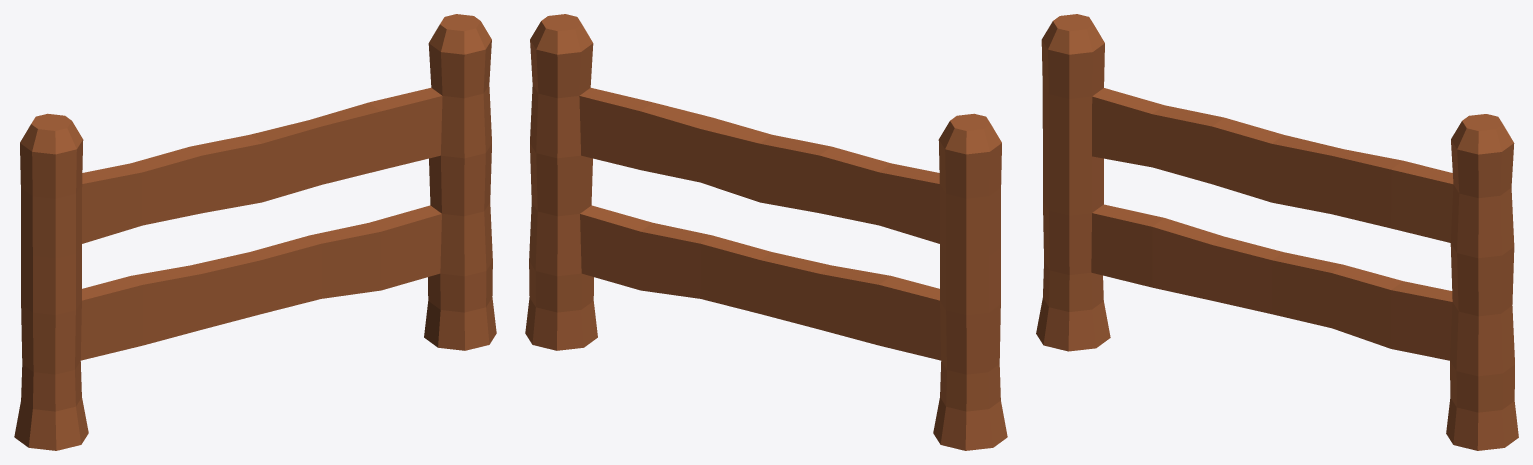
Rendered from 005_Fence.fbx.
The picture shows the model from 3 angles, left to right: view 1: azimuth 30°, elevation 25°; view 2: azimuth 150°, elevation 25°; view 3: azimuth 330°, elevation 25°; orthographic projection.
Visible parts, largest first — view 1: Fence; view 2: Fence; view 3: Fence.
Boxes of the visible parts, x1=… form: Fence: x1=14, y1=14, x2=496, y2=450; Fence: x1=525, y1=14, x2=1007, y2=450; Fence: x1=1036, y1=14, x2=1518, y2=450.
Bounding box in the file's own units: 183 × 117 × 23.54.
